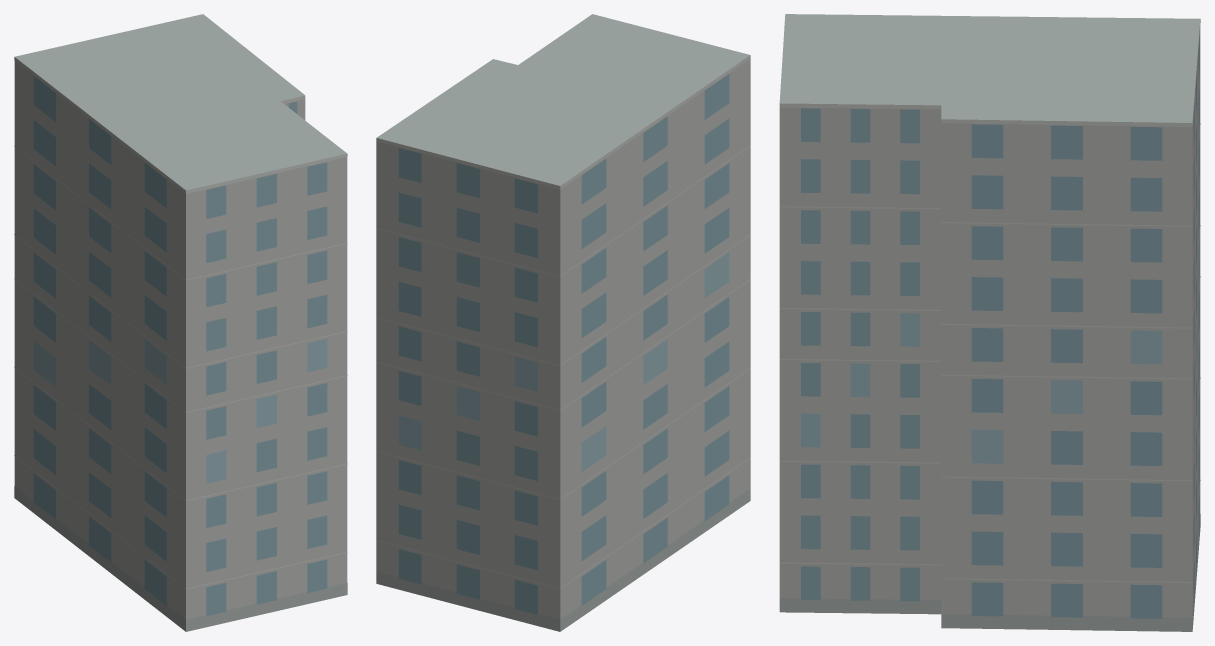
The model's file is survey-upis-32560071.glb.
The picture shows the model from 3 angles, left to right: view 1: azimuth 30°, elevation 25°; view 2: azimuth 150°, elevation 25°; view 3: azimuth 270°, elevation 25°; orthographic projection. The views are drawn at different scales.
Visible parts, largest first — view 1: survey-upis-32560071.tmp; view 2: survey-upis-32560071.tmp; view 3: survey-upis-32560071.tmp.
Part boxes in pixels (x1,y1,x2,y2): survey-upis-32560071.tmp: (14, 14, 347, 631); survey-upis-32560071.tmp: (376, 14, 750, 631); survey-upis-32560071.tmp: (779, 14, 1200, 631).
Bounding box in the file's own units: 14.04 × 30.5 × 22.88.
